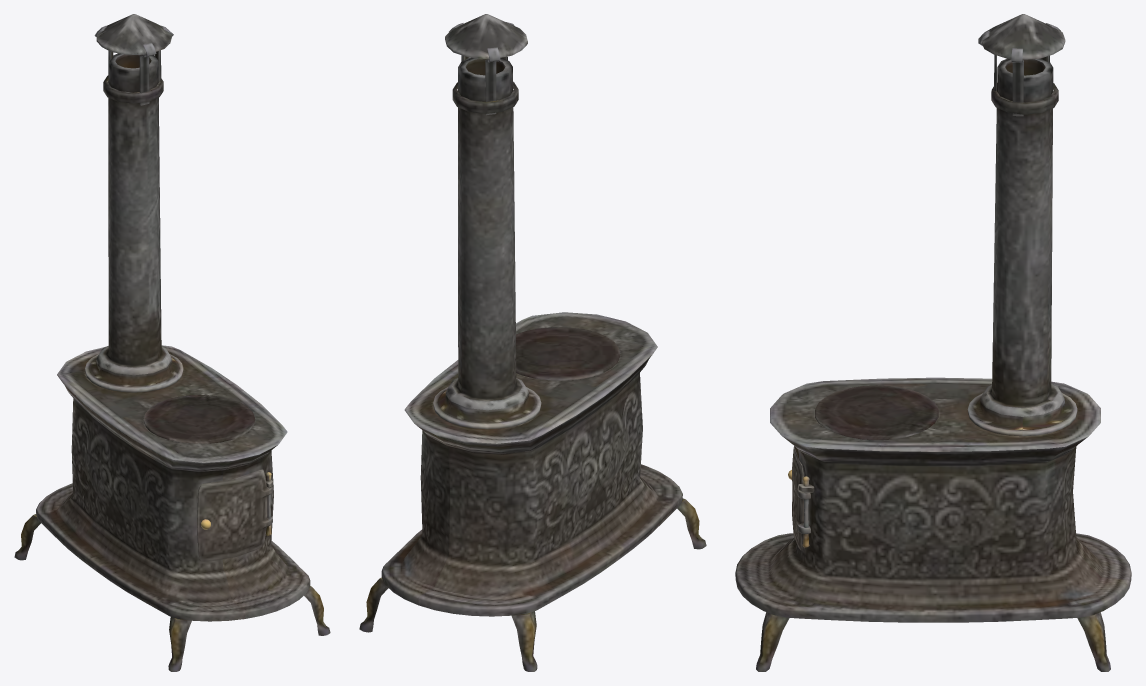
The model's file is SM_Stove_e2fe83.glb.
3 views of the same model, side by side, from view 1: azimuth 30°, elevation 25°; view 2: azimuth 150°, elevation 25°; view 3: azimuth 270°, elevation 25° (orthographic). The views are drawn at different scales.
Size of the model in its own units: 0.5123 by 1.69 by 0.9872.
1 material, 1 textured.
